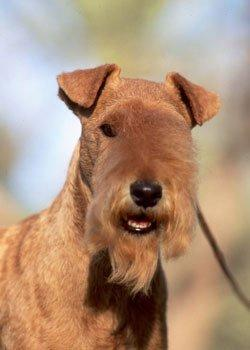wire-haired_fox_terrier: (1, 63, 221, 349)
